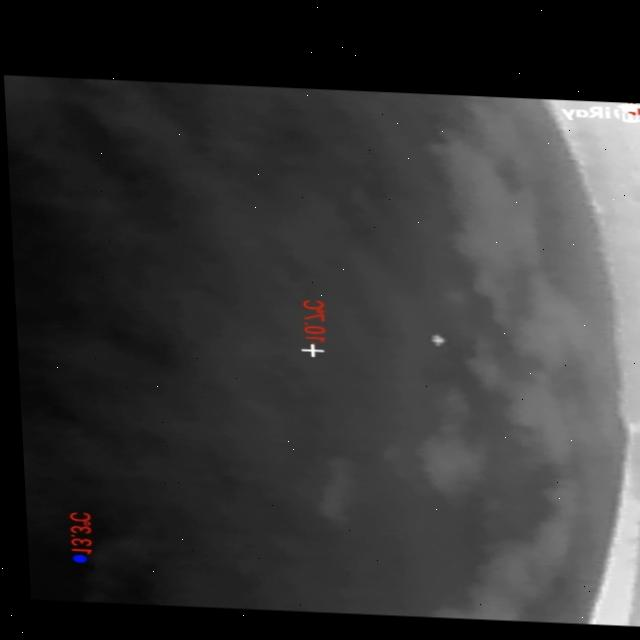drone: (422, 328, 447, 343)
